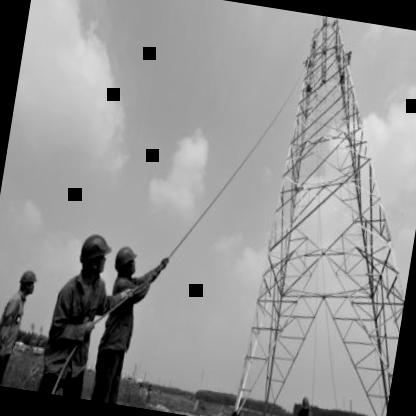helmet: (74, 226, 115, 284), (110, 239, 140, 280), (14, 266, 43, 301)
